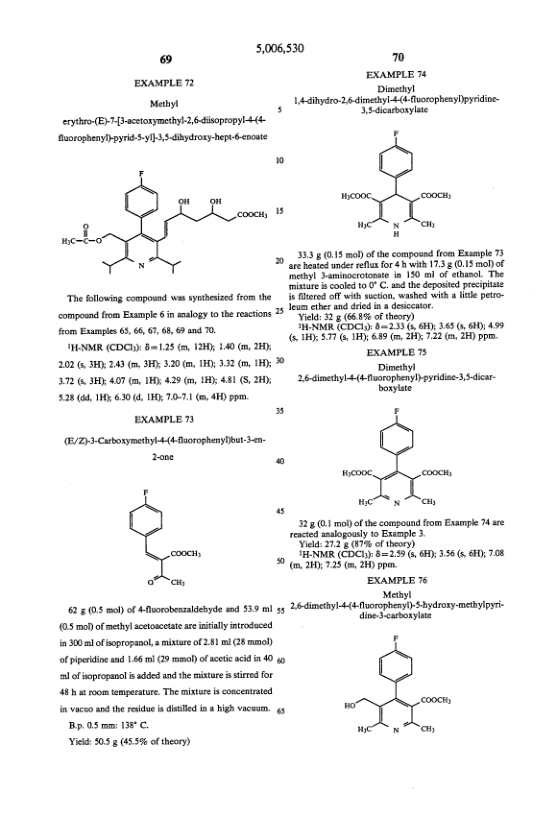compound-structure: (60, 158, 273, 283), (337, 115, 457, 240), (338, 399, 457, 514), (341, 626, 455, 741), (122, 487, 207, 597)
